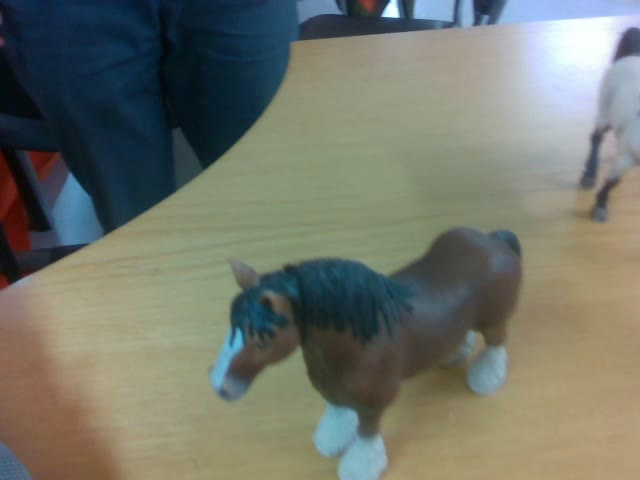toy: (207, 228, 523, 480)
